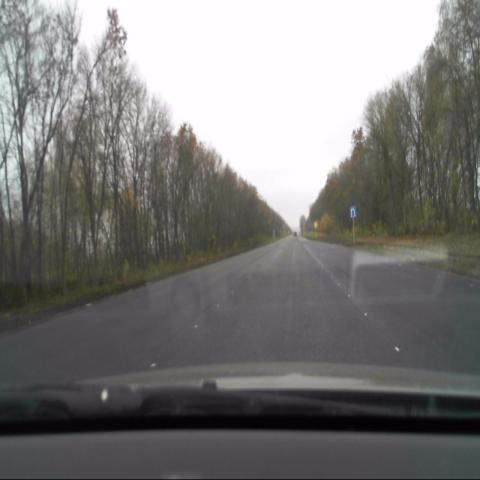5_15_5: (350, 206, 357, 217)
